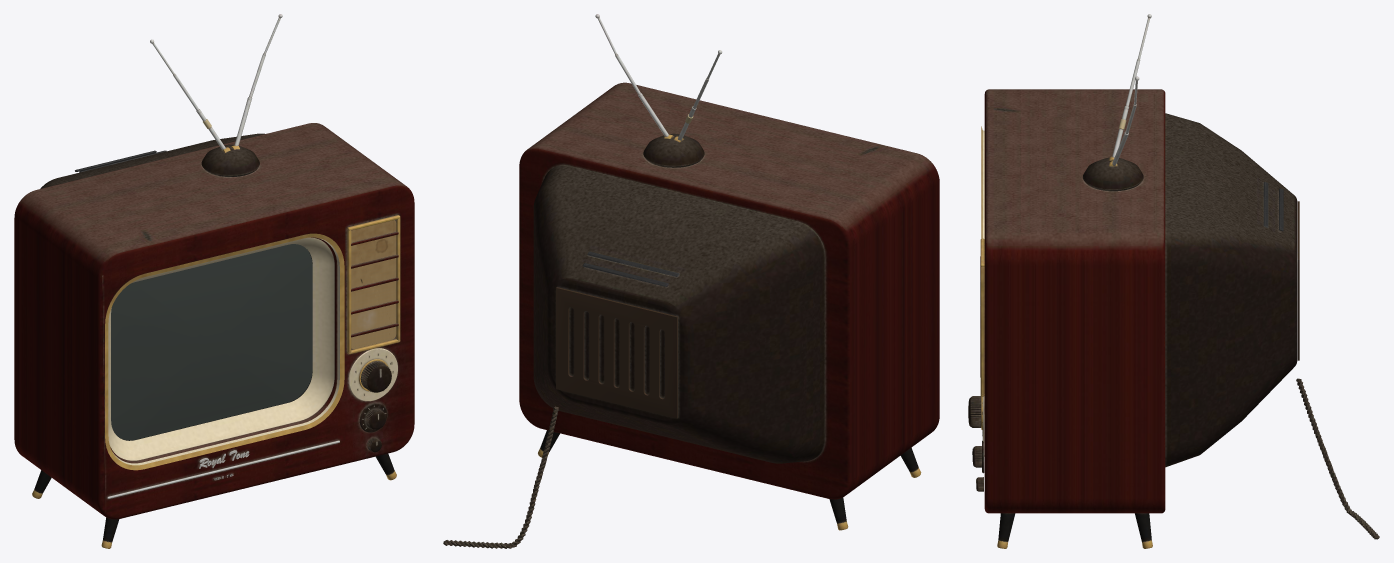
3 views of the same model, side by side, from view 1: azimuth 30°, elevation 25°; view 2: azimuth 150°, elevation 25°; view 3: azimuth 270°, elevation 25° (orthographic). The views are drawn at different scales.
Parts seen in each view (by area): view 1: tv, screen, knob_channel, knob_volume; view 2: tv; view 3: tv.
Part boxes in pixels (box(x1,y1,x2,y2)): tv: box(14, 14, 414, 548); screen: box(111, 244, 312, 440); knob_channel: box(359, 359, 391, 392); knob_volume: box(359, 403, 387, 432); tv: box(443, 14, 939, 548); tv: box(980, 14, 1379, 548).
Size of the model in its own units: 5.5 by 7.13 by 5.93.
3 materials, 2 textured.
